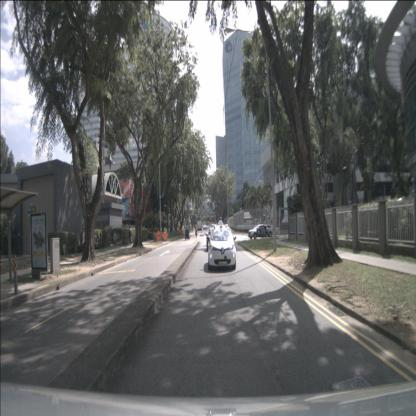human-pedestrian-adult: (82, 228, 86, 253), (128, 228, 132, 248), (194, 225, 198, 241)
vehicle-car: (208, 226, 236, 270), (206, 228, 223, 252), (248, 224, 270, 239), (258, 225, 273, 237)
vehicle-truck: (197, 220, 202, 231)
